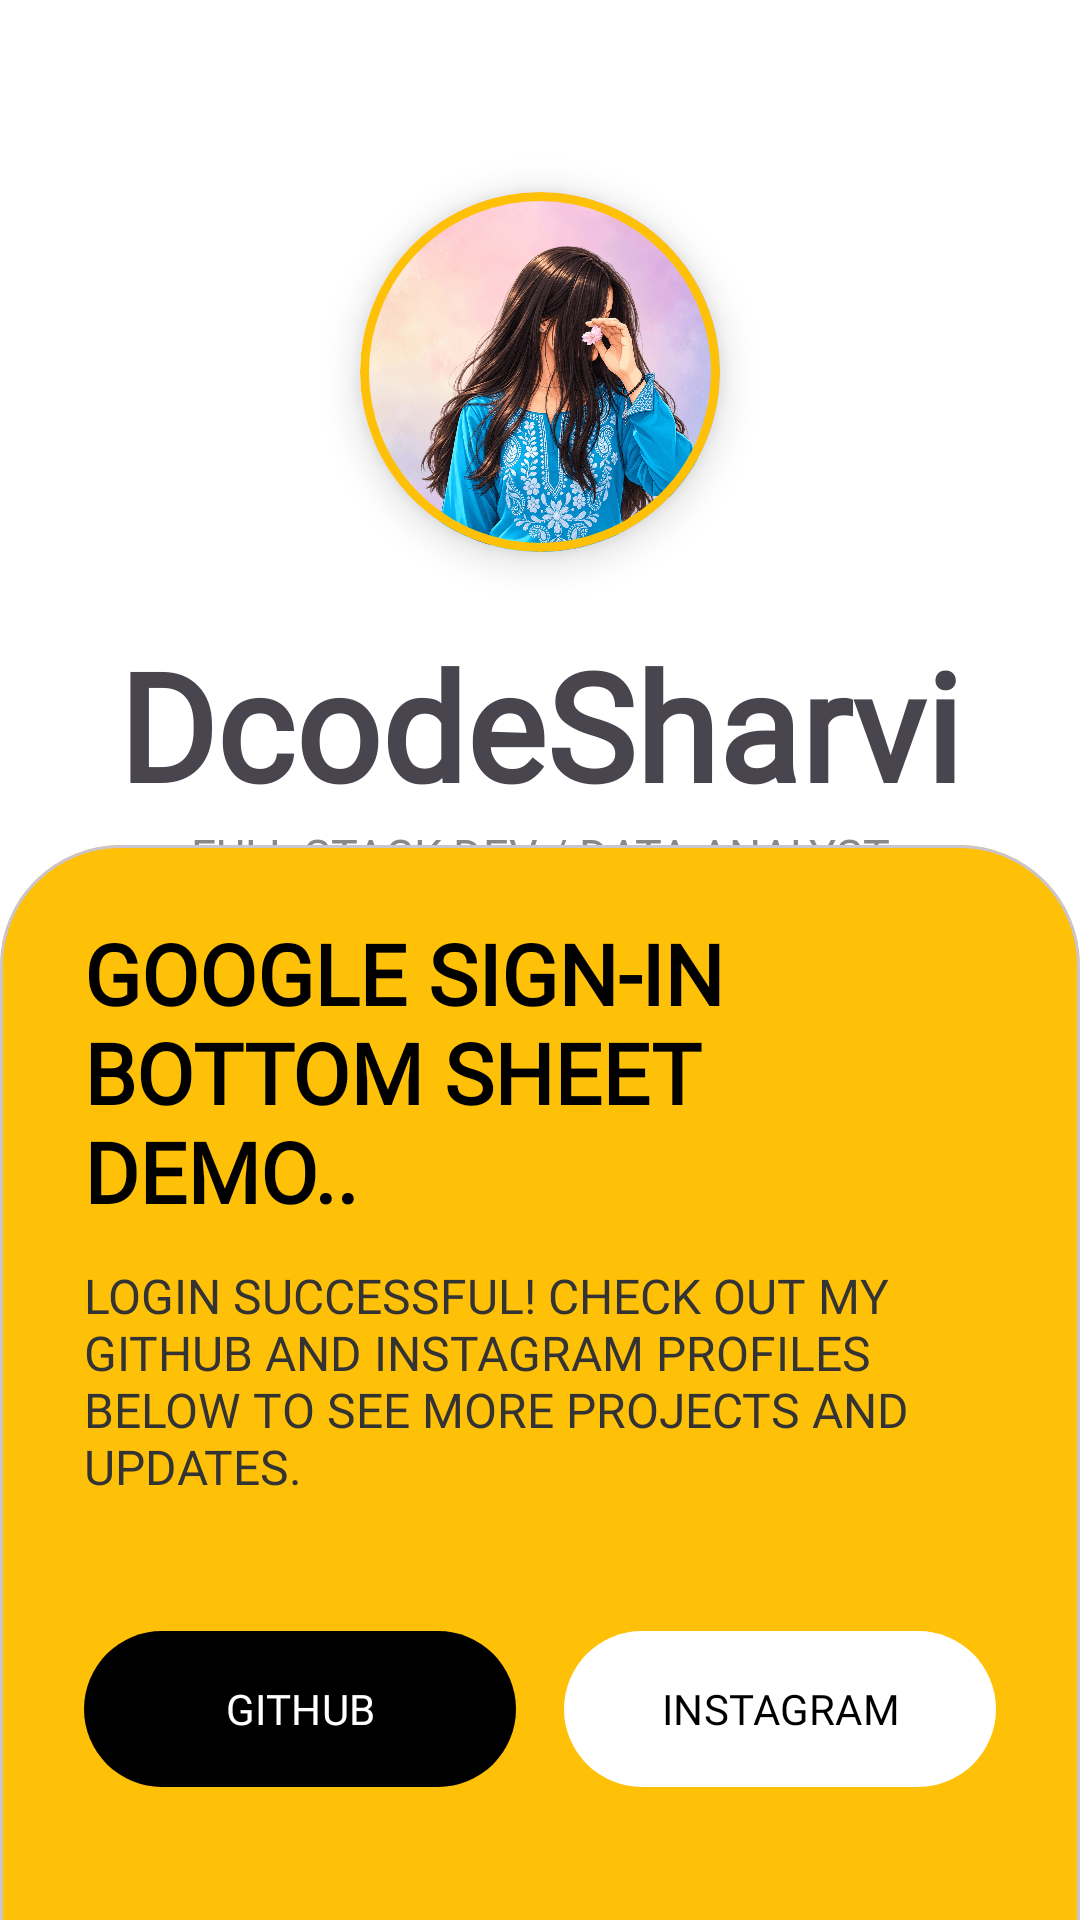

Screen size 1080px x 1920px. Icon name, then its box in pixels as BBox(x1, y1, x2, y2):
profile pic: BBox(360, 192, 720, 552)
